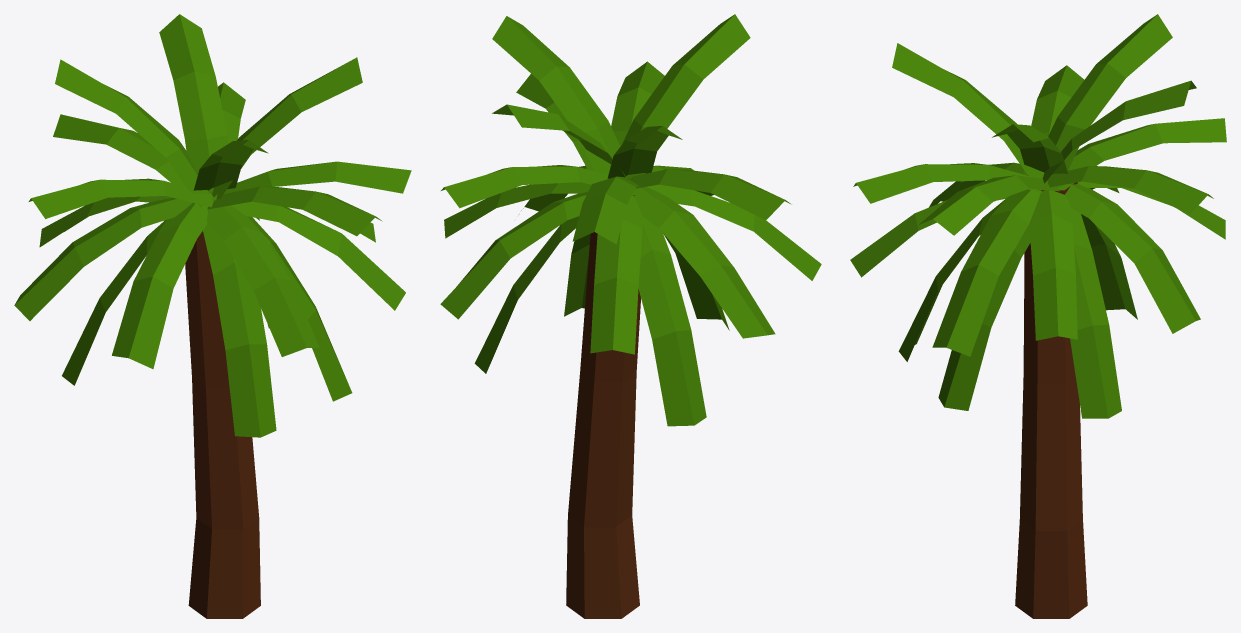
The model's file is T_Palm1.fbx.
The picture shows the model from 3 angles, left to right: view 1: azimuth 30°, elevation 25°; view 2: azimuth 150°, elevation 25°; view 3: azimuth 270°, elevation 25°; orthographic projection. The views are drawn at different scales.
Parts seen in each view (by area): view 1: Cylinder; view 2: Cylinder; view 3: Cylinder.
Boxes of the visible parts, x1=… form: Cylinder: x1=14, y1=14, x2=411, y2=618; Cylinder: x1=440, y1=14, x2=821, y2=618; Cylinder: x1=850, y1=14, x2=1226, y2=618.
Size of the model in its own units: 4.6 by 6.95 by 4.42.
